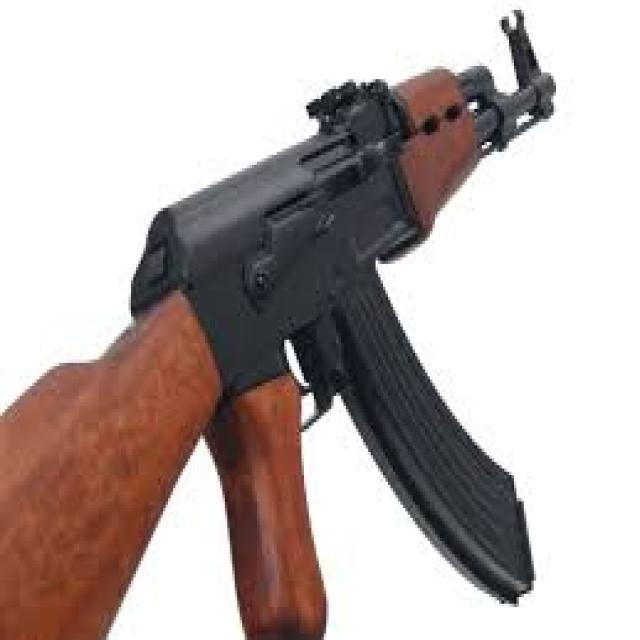AK-47 Gun: (3, 11, 557, 637)
